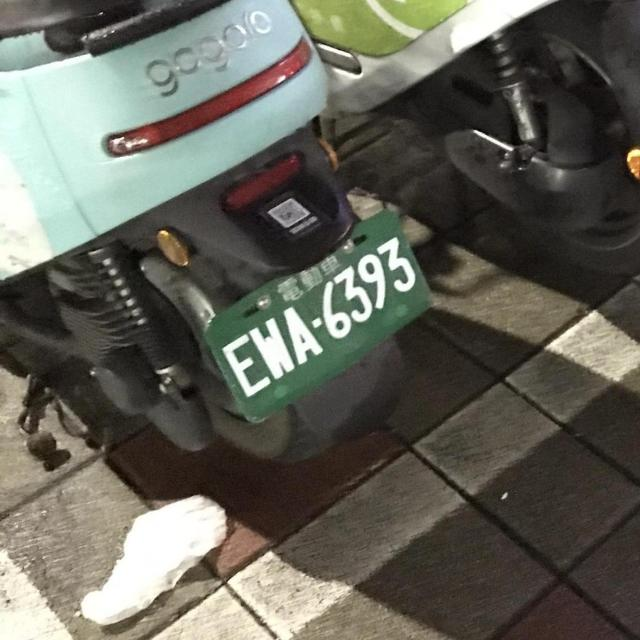GW: (196, 206, 440, 430)
